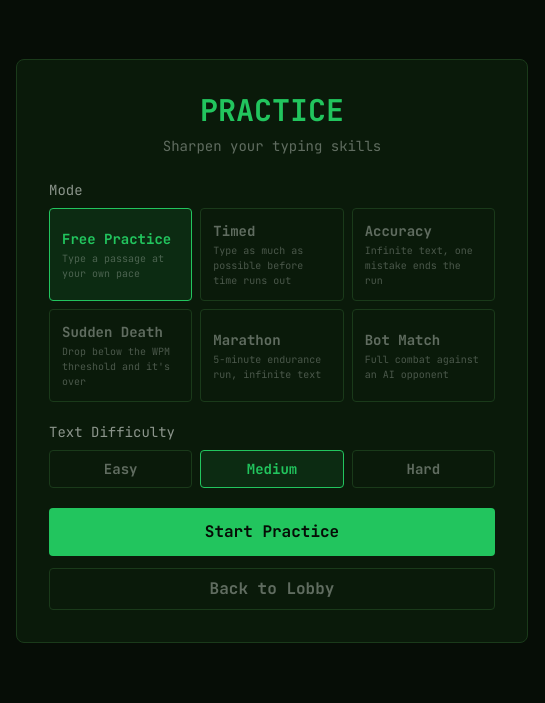
Test case: PracticeSetup › timed mode shows duration options when selected
# Click timed mode
What coordinates should you click on to do the following:
click the button with test id "mode-timed"
I would click on:
 (272, 254)
Its box is left=200, top=208, right=344, bottom=301.
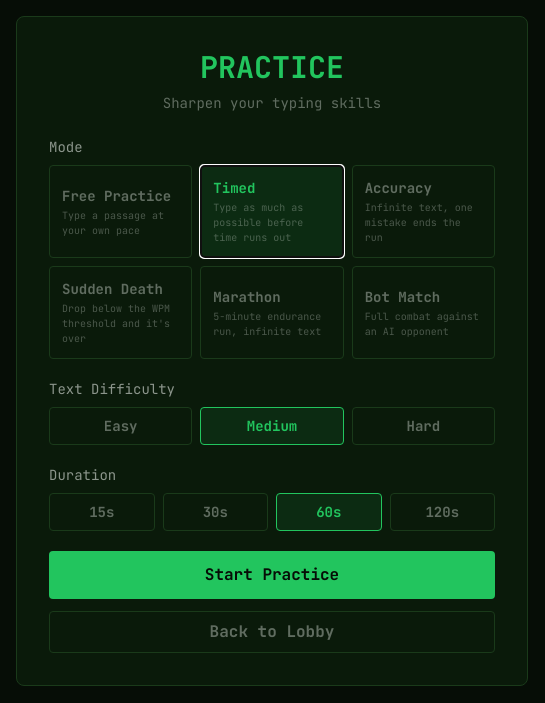
Check: the button with test id "duration-15" is shown, box left=49, top=493, right=154, bottom=531
Check: the button with test id "duration-30" is shown, box left=162, top=493, right=268, bottom=531
Check: the button with test id "duration-60" is shown, box left=276, top=493, right=382, bottom=531
